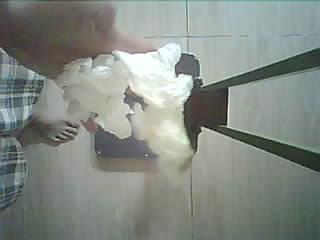paper: (35, 43, 194, 158)
